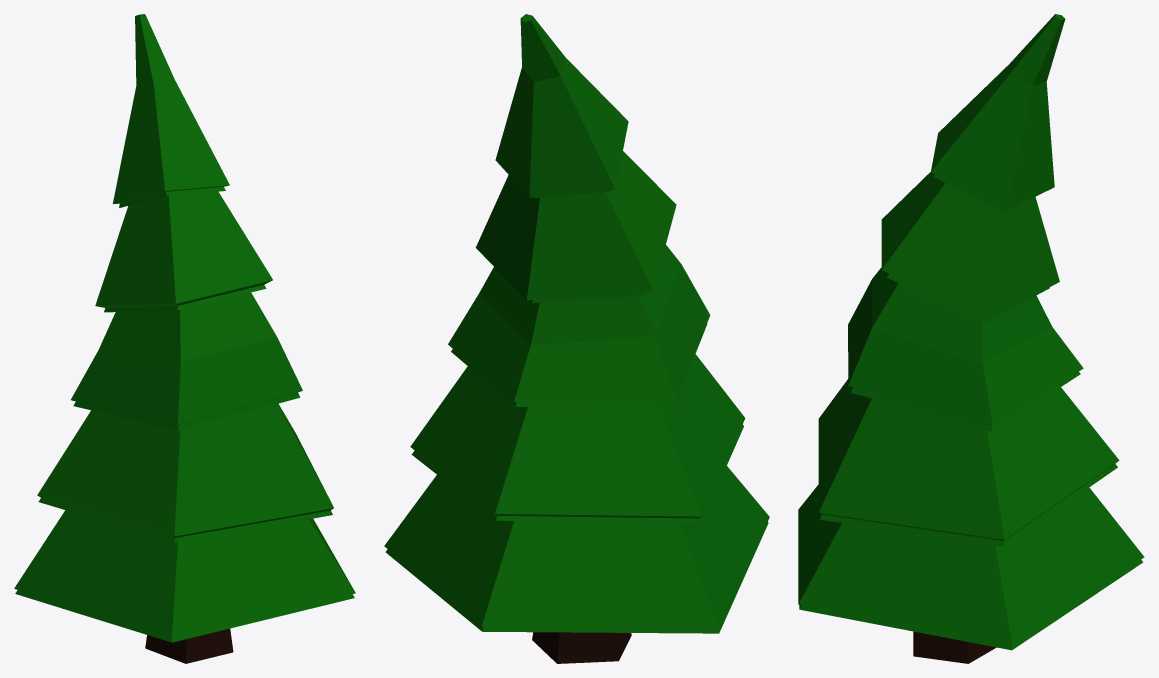
Rendered from Tree4.obj.
3 views of the same model, side by side, from view 1: azimuth 30°, elevation 25°; view 2: azimuth 150°, elevation 25°; view 3: azimuth 270°, elevation 25° (orthographic). The views are drawn at different scales.
Parts seen in each view (by area): view 1: Cylinder; view 2: Cylinder; view 3: Cylinder.
Part boxes in pixels (x1=…): Cylinder: x1=14, y1=14, x2=355, y2=663; Cylinder: x1=384, y1=14, x2=769, y2=663; Cylinder: x1=798, y1=14, x2=1144, y2=663.
Size of the model in its own units: 2041 by 3888 by 1941.
